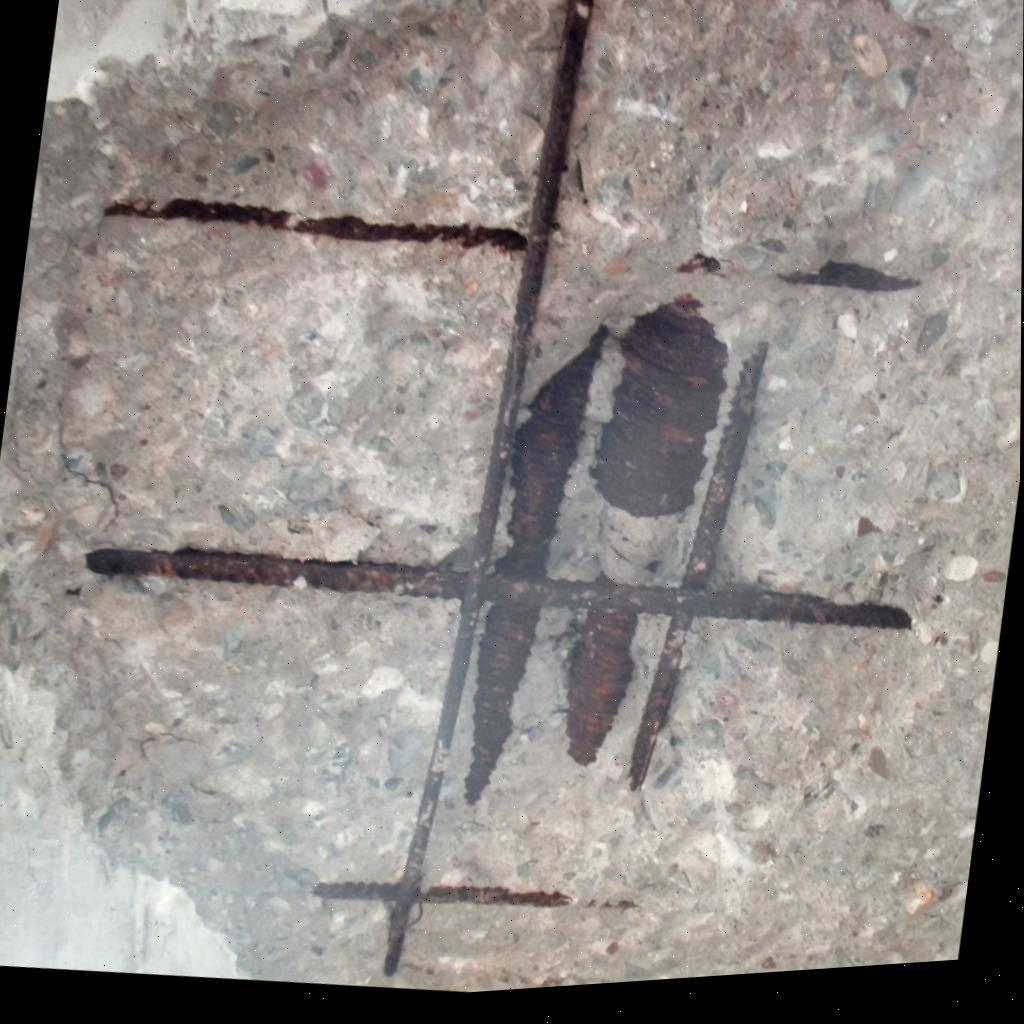exposed_rebar: (86, 0, 911, 975), (595, 298, 725, 516), (496, 326, 606, 577), (103, 197, 527, 250), (464, 602, 539, 802), (566, 608, 636, 763), (780, 260, 919, 291), (677, 253, 720, 273)
spalling: (0, 0, 1023, 992)
